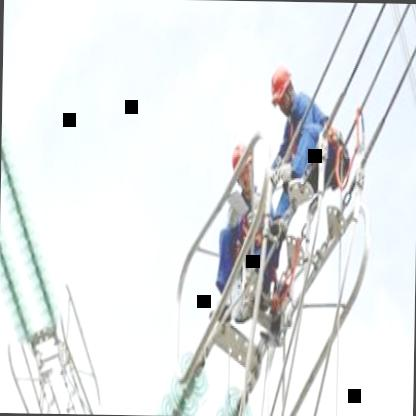helmet: (226, 132, 258, 200), (266, 58, 295, 116)
